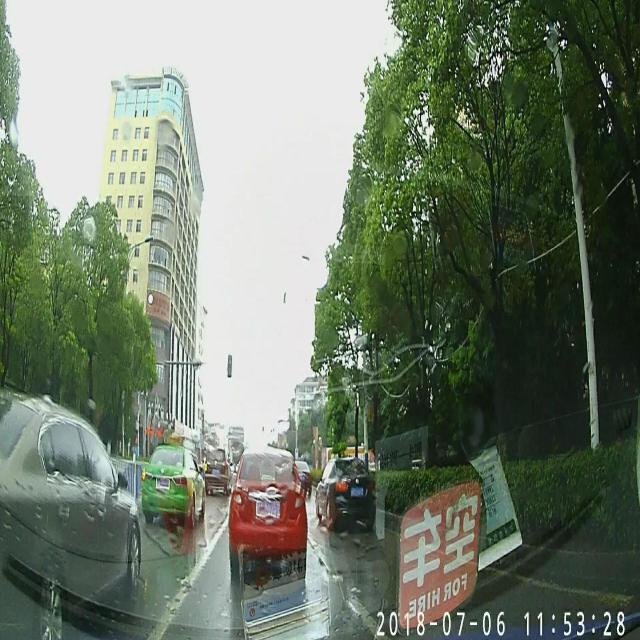car: (0, 393, 143, 609), (224, 446, 308, 586), (140, 442, 207, 526), (314, 456, 376, 524), (201, 445, 232, 493)
